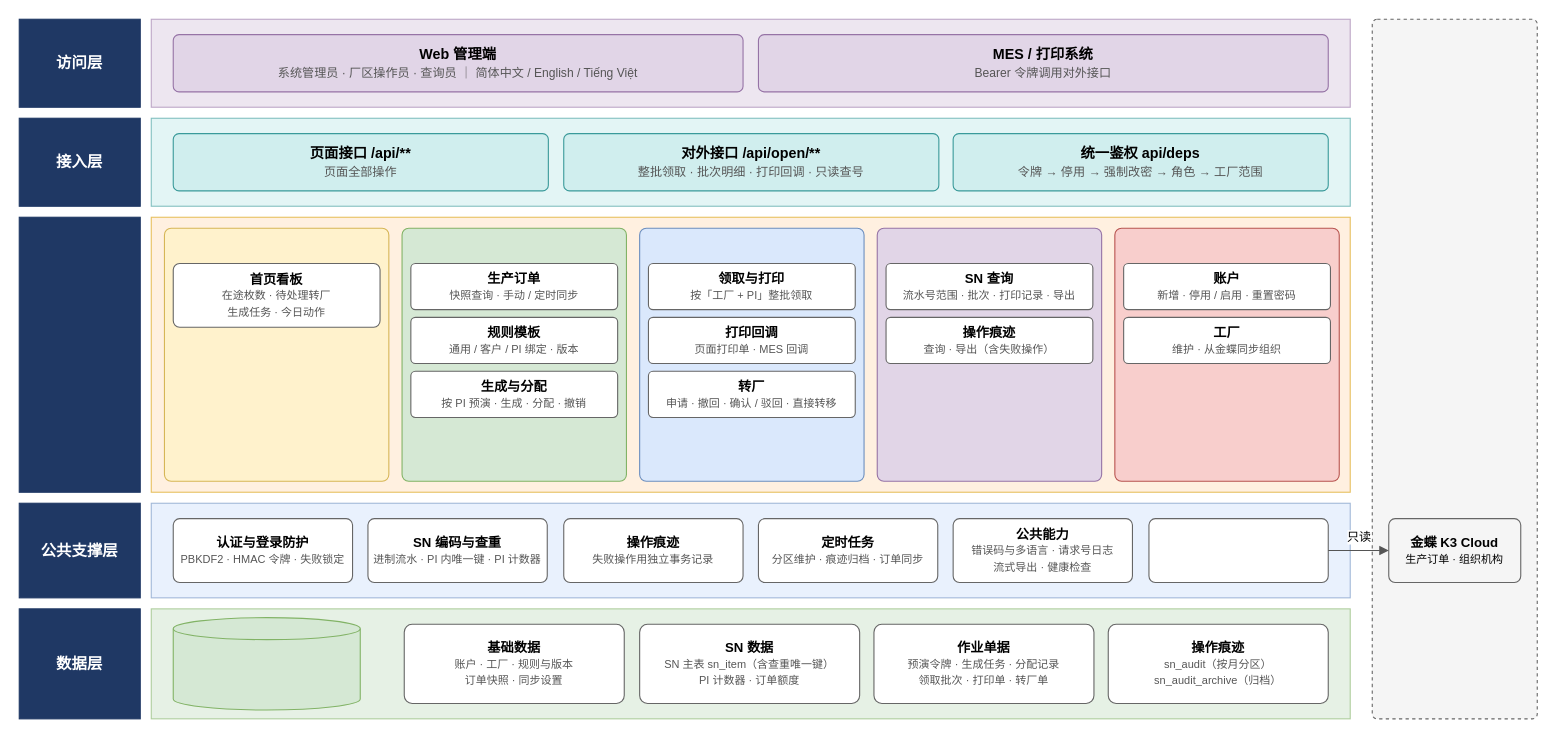
Some shapes in this 1557 by 738 pixel diagram are drawn without their labels. The box of each missing label's shape, as (x1, y1, x2, y2) in pixels:
MySQL 8.0 单实例 · 库 sndb 生产建议主从: (172, 617, 360, 710)
业务应用层: (18, 216, 140, 492)
外部系统: (1371, 18, 1537, 719)
工作台: (163, 227, 389, 481)
工厂作业: (639, 227, 864, 481)
总部作业: (401, 227, 626, 481)
查询与留痕: (876, 227, 1102, 481)
系统管理: (1114, 227, 1339, 481)
金蝶接入 WebAPI 只读: (1148, 518, 1328, 582)
